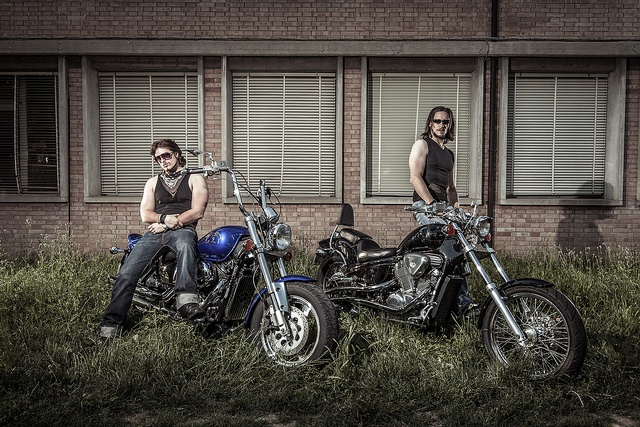non-vehicle: (108, 151, 335, 371), (312, 203, 588, 381)
